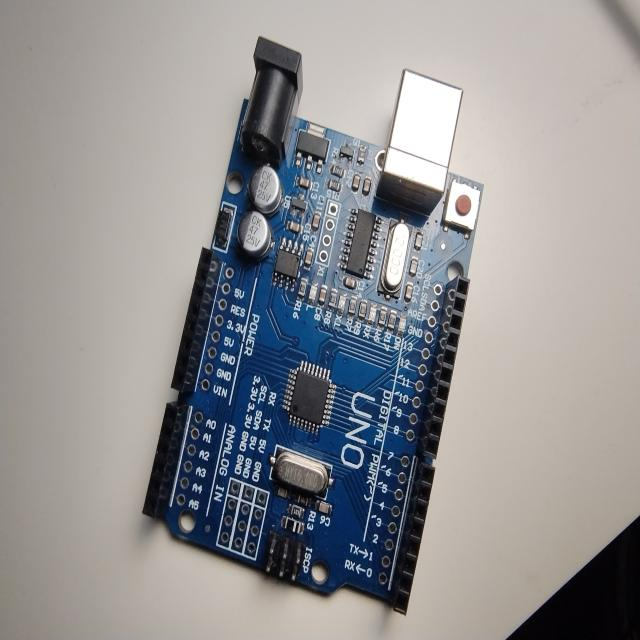arduino: (144, 10, 486, 629)
